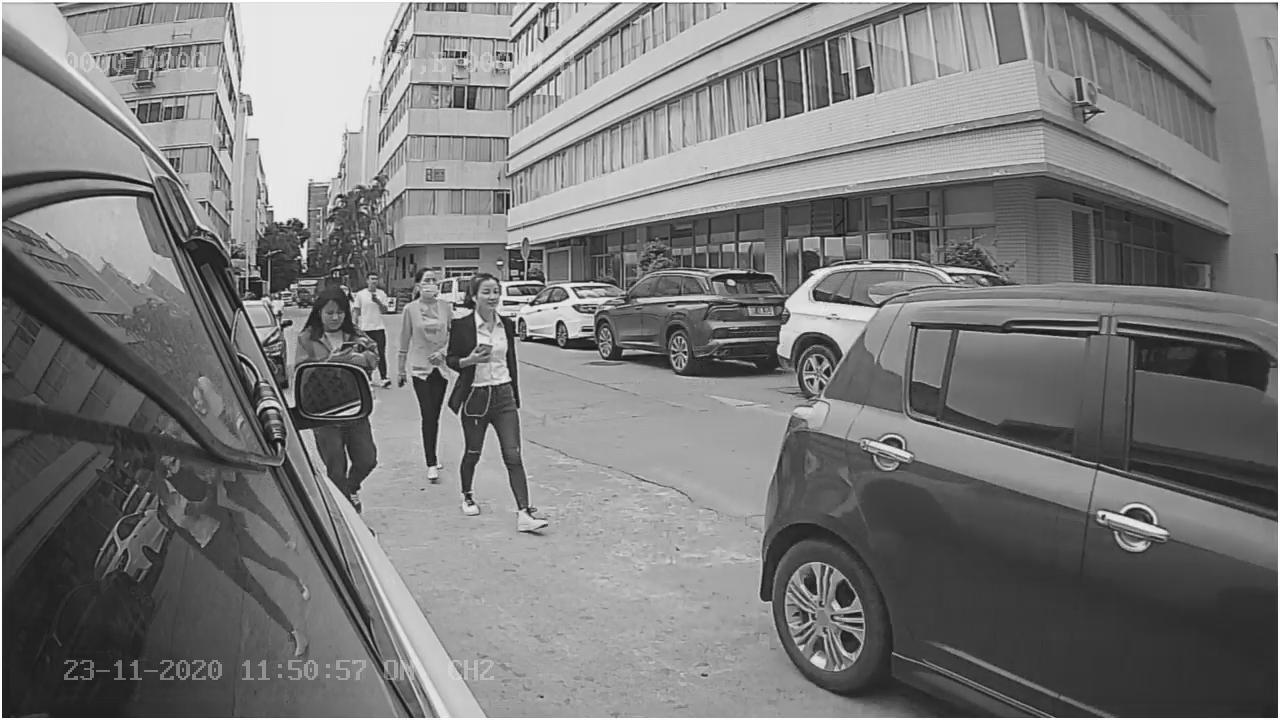person: (446, 273, 561, 532)
